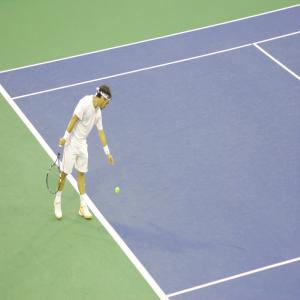TennisBall: (116, 187, 120, 193)
